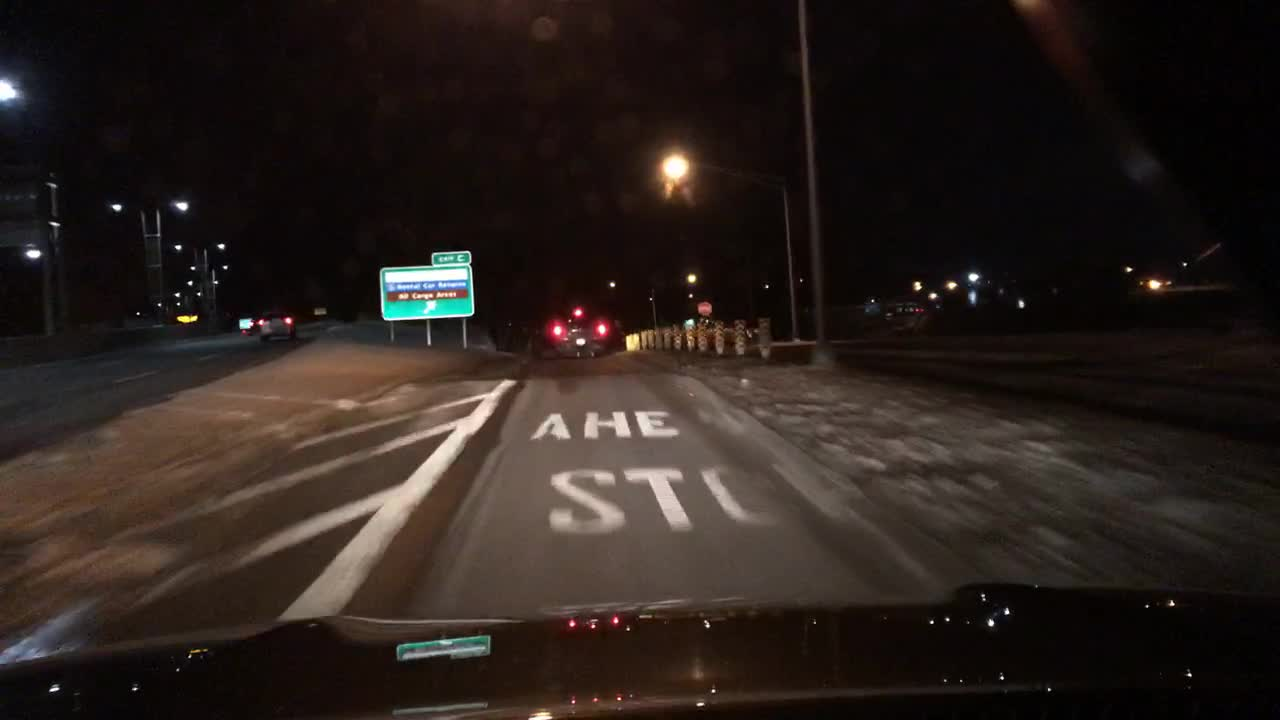car: (545, 304, 612, 354), (255, 307, 295, 341)
traffic sign: (378, 265, 472, 320), (430, 250, 469, 265), (695, 297, 712, 315), (238, 315, 253, 327)
